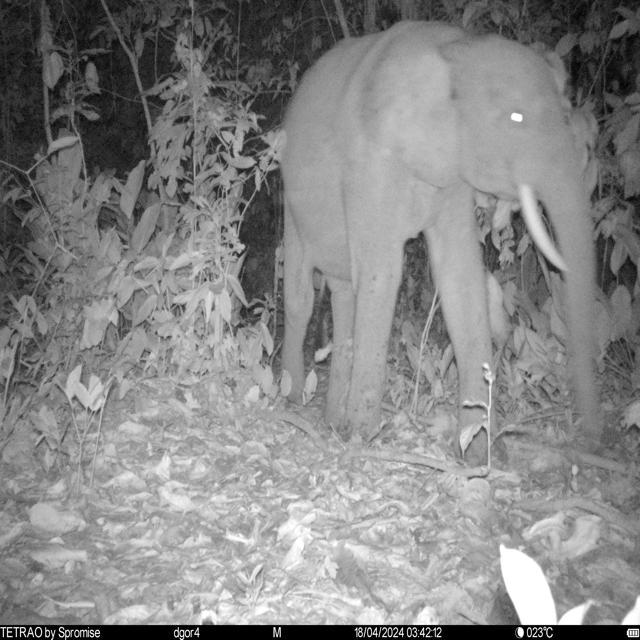ear: (334, 19, 466, 192)
elephant: (279, 19, 602, 478)
tusk: (515, 185, 570, 272)
